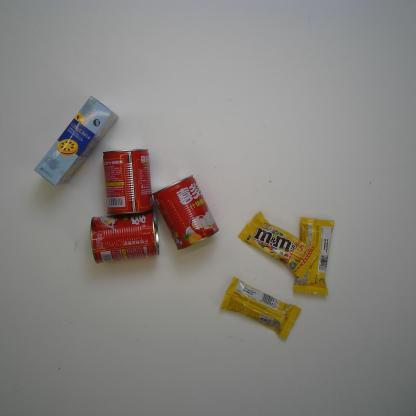Canned Food: (152, 175, 219, 250), (90, 209, 160, 264), (103, 148, 154, 215)
Chocolate: (237, 211, 321, 280), (219, 277, 301, 340), (292, 216, 336, 296)
Dessert: (33, 96, 118, 186)
